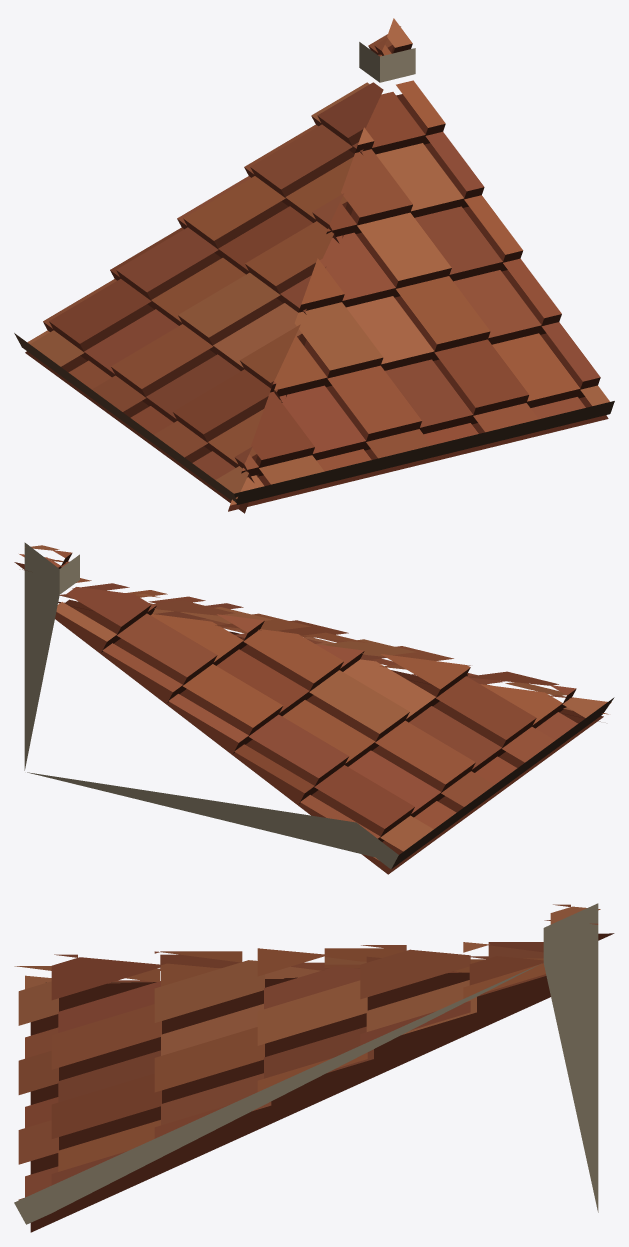
Rendered from roof-corner-tile.glb.
3 renders of one model, top to bottom at view 1: azimuth 30°, elevation 25°; view 2: azimuth 150°, elevation 25°; view 3: azimuth 270°, elevation 25°, orthographic. The views are drawn at different scales.
Parts seen in each view (by area): view 1: roof-corner-tile; view 2: roof-corner-tile; view 3: roof-corner-tile.
Boxes of the visible parts, bbox=[...] form: roof-corner-tile: bbox=[14, 18, 614, 513]; roof-corner-tile: bbox=[14, 542, 614, 874]; roof-corner-tile: bbox=[14, 903, 614, 1232].
Bounding box in the file's own units: 1.1 × 0.6644 × 1.1.
